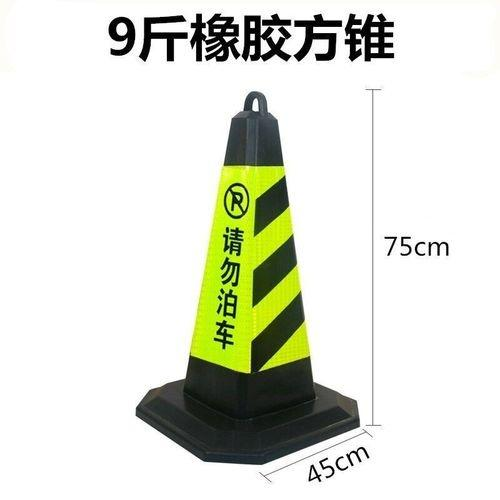cone_barrel: (151, 88, 338, 458)
